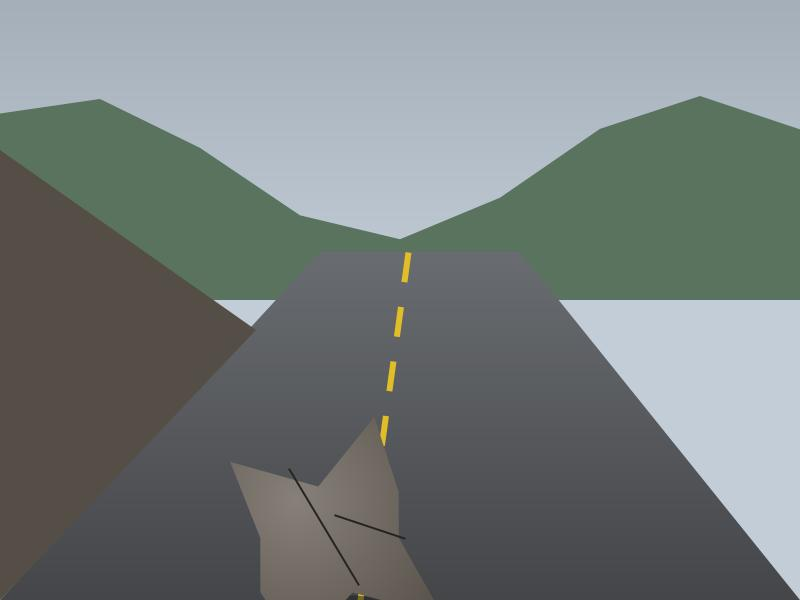ROAD_OBSTACLE: (220, 423, 450, 600)
